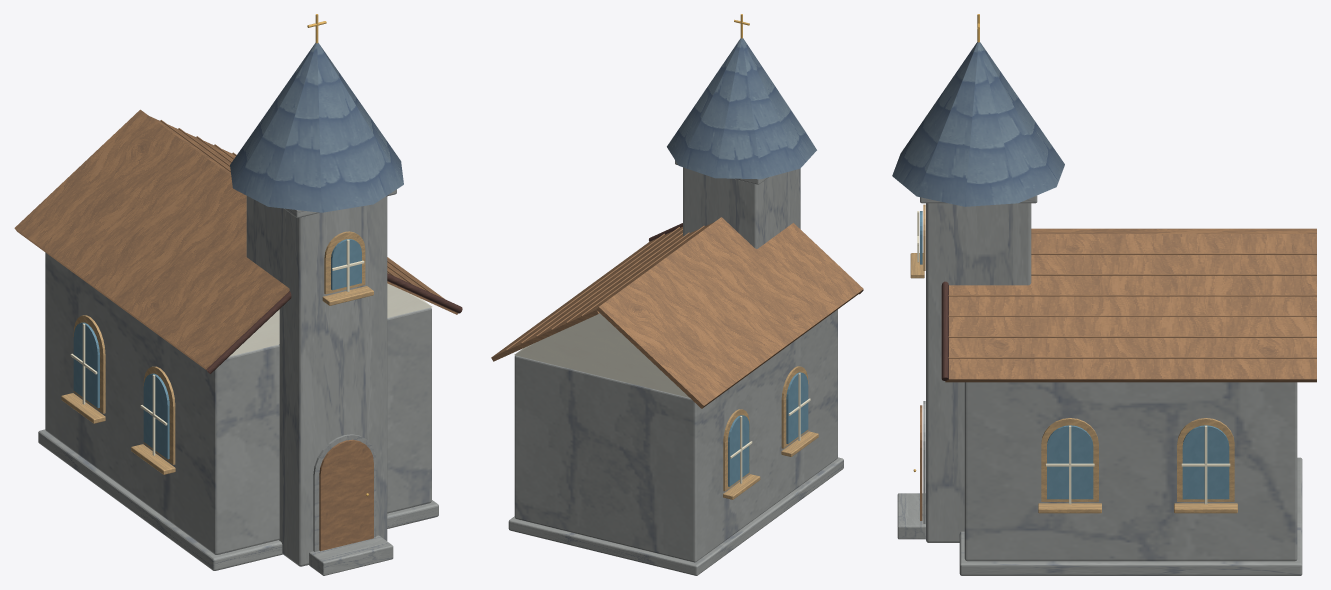
Rendered from church.glb.
3 renders of one model, left to right at view 1: azimuth 30°, elevation 25°; view 2: azimuth 150°, elevation 25°; view 3: azimuth 270°, elevation 25°, orthographic. The views are drawn at different scales.
Visible parts, largest first — view 1: church; view 2: church; view 3: church.
Part boxes in pixels (left/top/right/bottom): church: left=14, top=14, right=462, bottom=575; church: left=491, top=14, right=863, bottom=575; church: left=892, top=14, right=1316, bottom=575.
Size of the model in its own units: 5.19 by 10.12 by 7.66.
3 materials, 3 textured.
